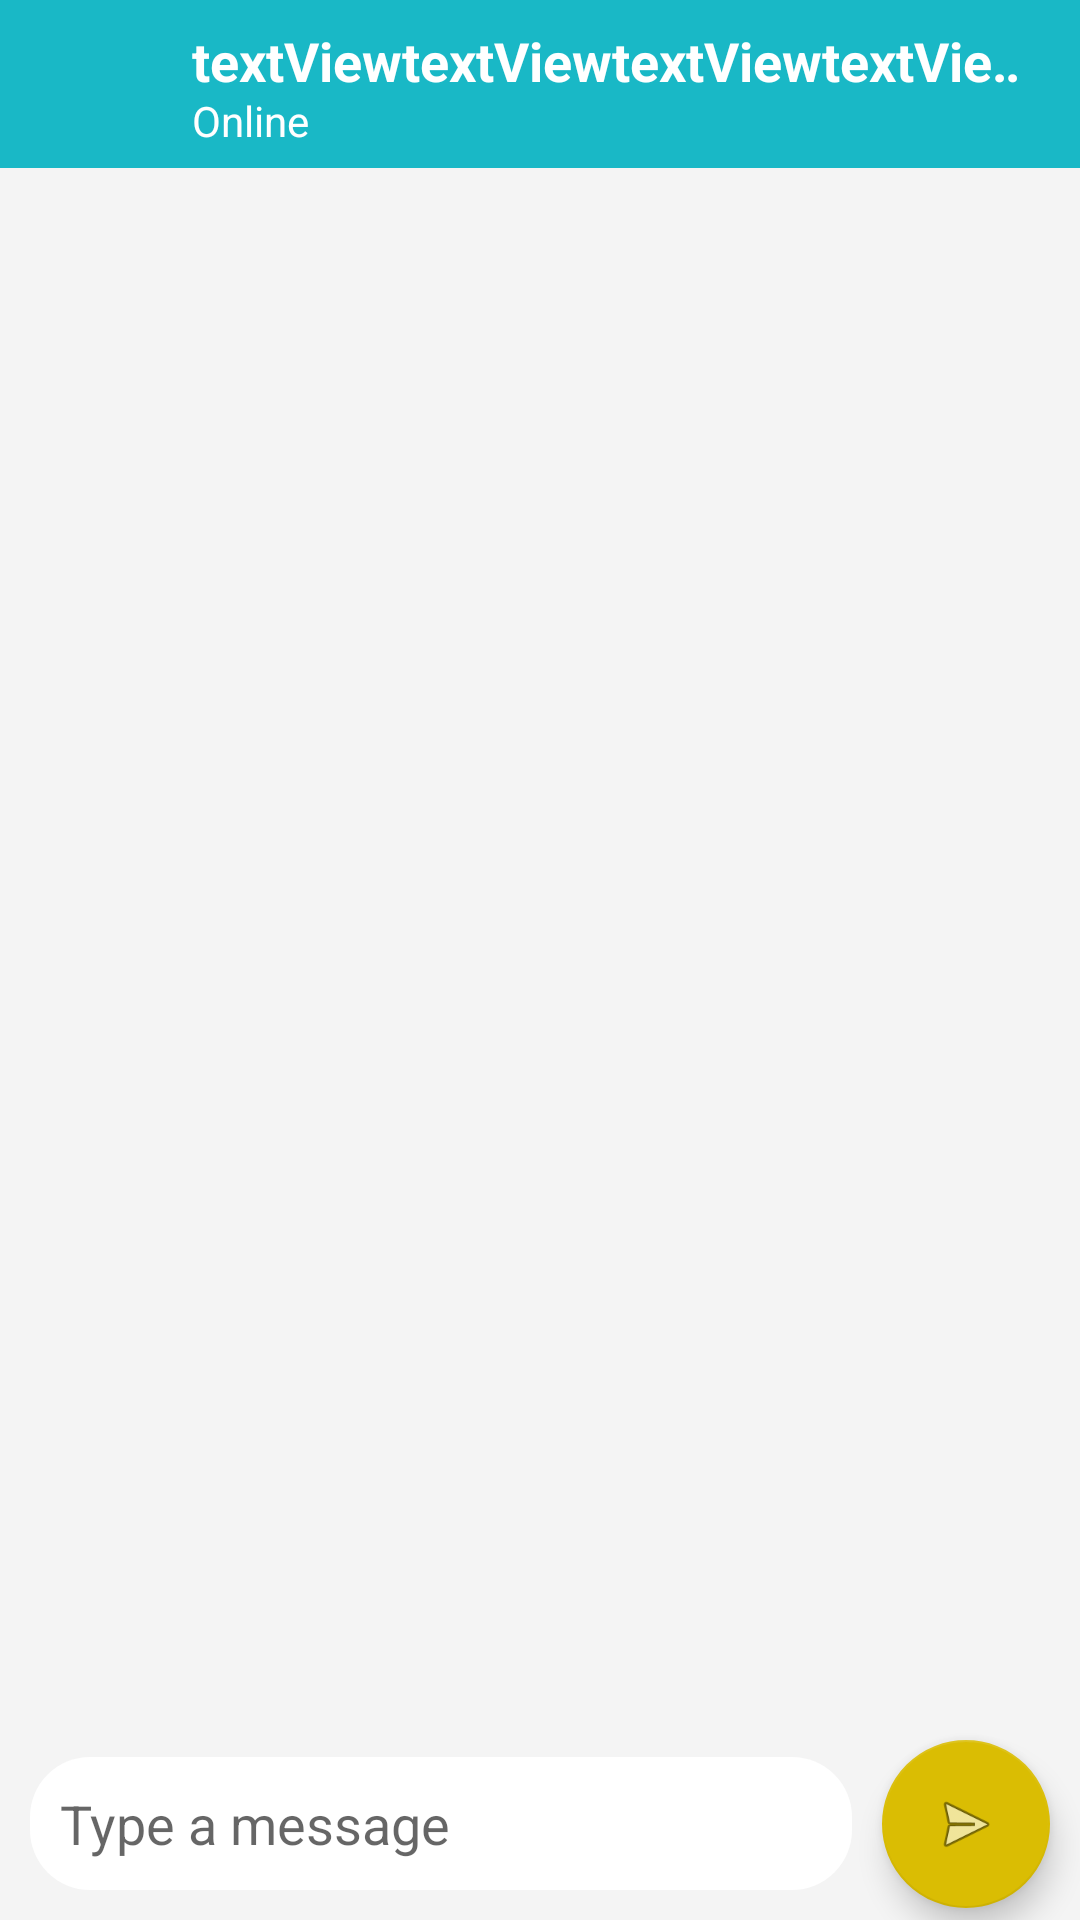

Icons on this 1080 × 1920 Android screen, each with its box as (x1, y1, x2, y2):
send: (882, 1740, 1050, 1908)
